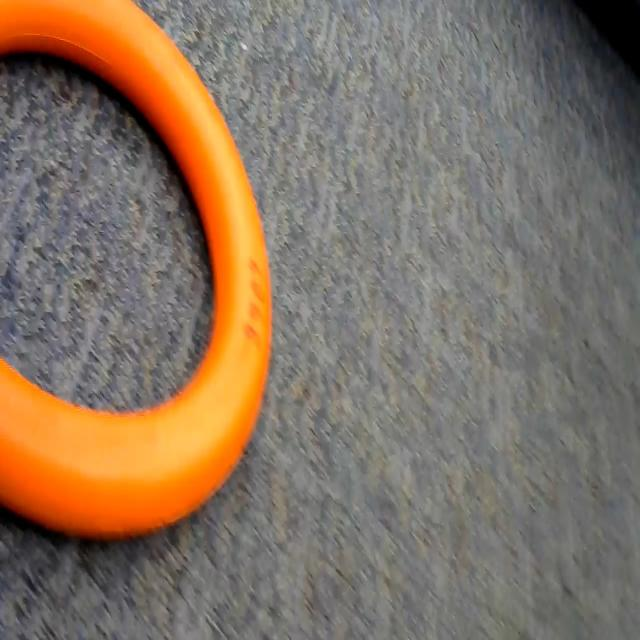note: (0, 0, 279, 553)
